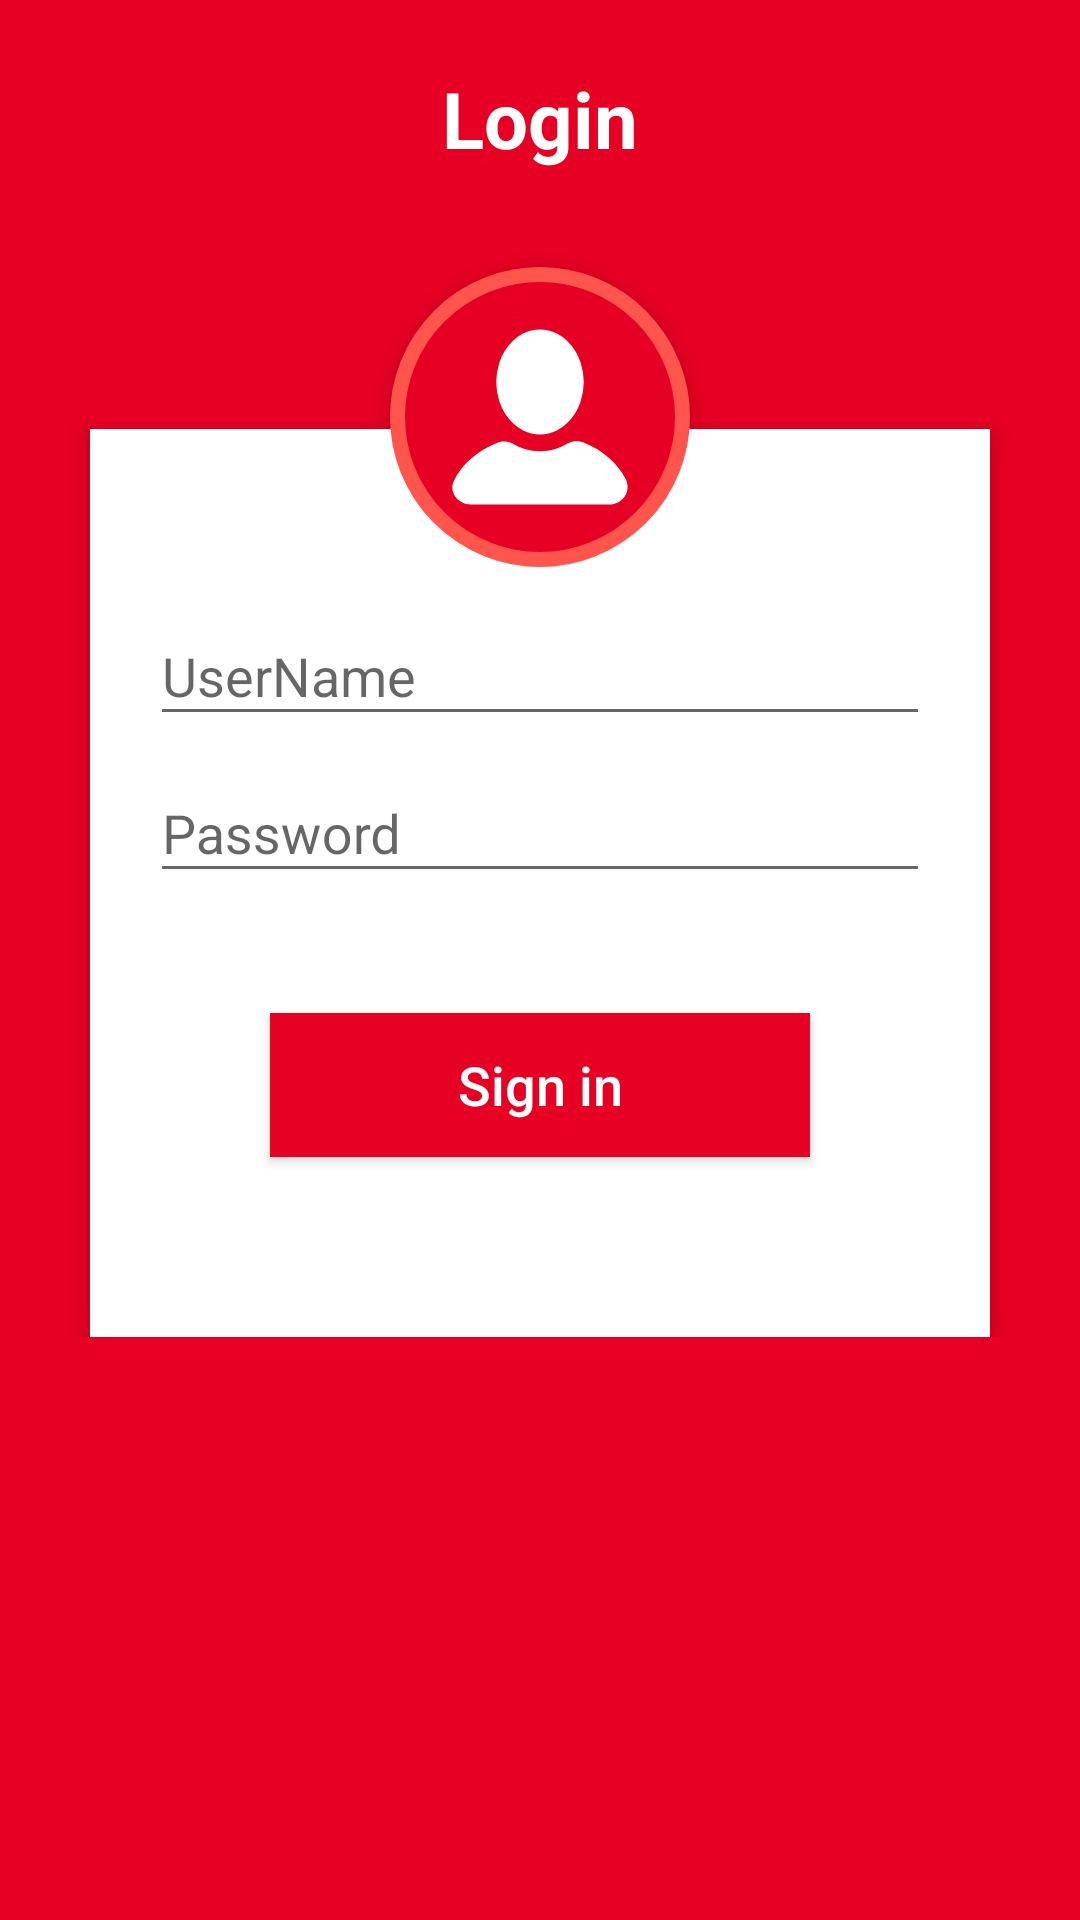

Named icons in this screenshot (1080px×1920px) and their centers, [x,y]:
user profile: [540,417]
